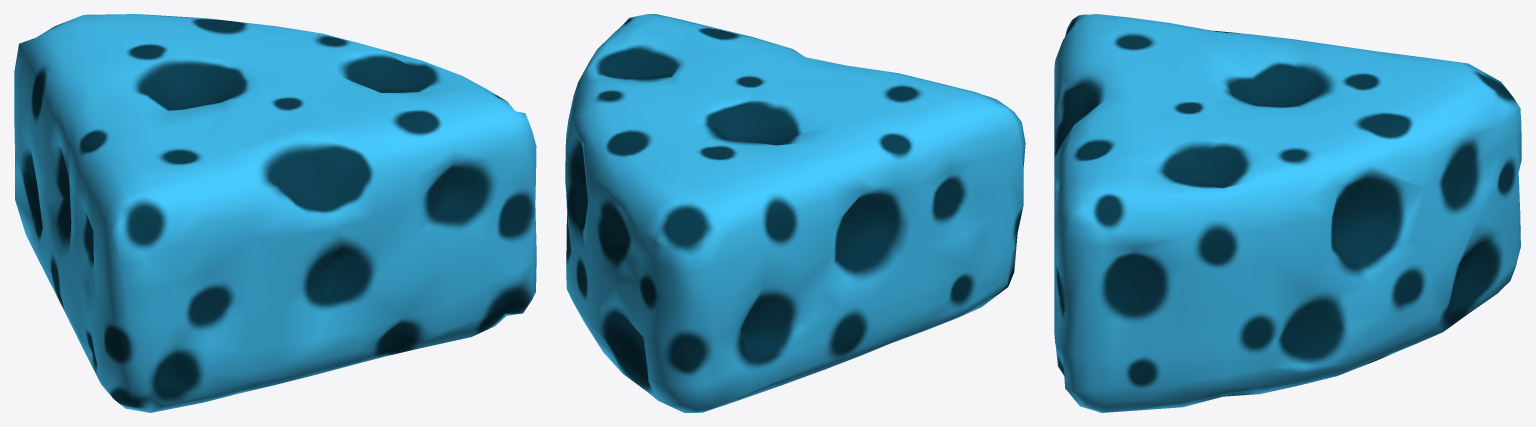
File: Water_LP_mesh.fbx
The picture shows the model from 3 angles, left to right: view 1: azimuth 30°, elevation 25°; view 2: azimuth 150°, elevation 25°; view 3: azimuth 270°, elevation 25°; orthographic projection. The views are drawn at different scales.
Visible parts, largest first — view 1: Water_Crystal_Cheese_mesh; view 2: Water_Crystal_Cheese_mesh; view 3: Water_Crystal_Cheese_mesh.
Boxes of the visible parts, bbox=[...] form: Water_Crystal_Cheese_mesh: bbox=[14, 14, 536, 412]; Water_Crystal_Cheese_mesh: bbox=[565, 14, 1025, 412]; Water_Crystal_Cheese_mesh: bbox=[1054, 14, 1521, 412].
Bounding box in the file's own units: 11.57 × 5.9 × 10.95.
